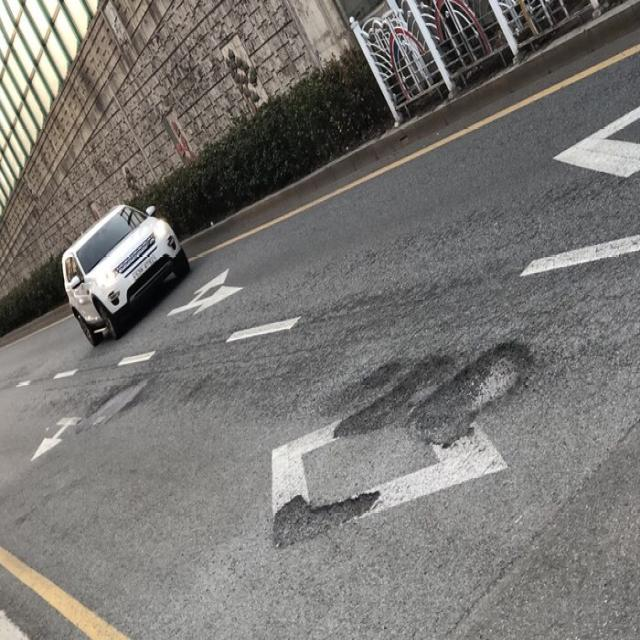pothole: (331, 327, 448, 444), (445, 342, 537, 440), (278, 484, 391, 538), (74, 367, 157, 431)
